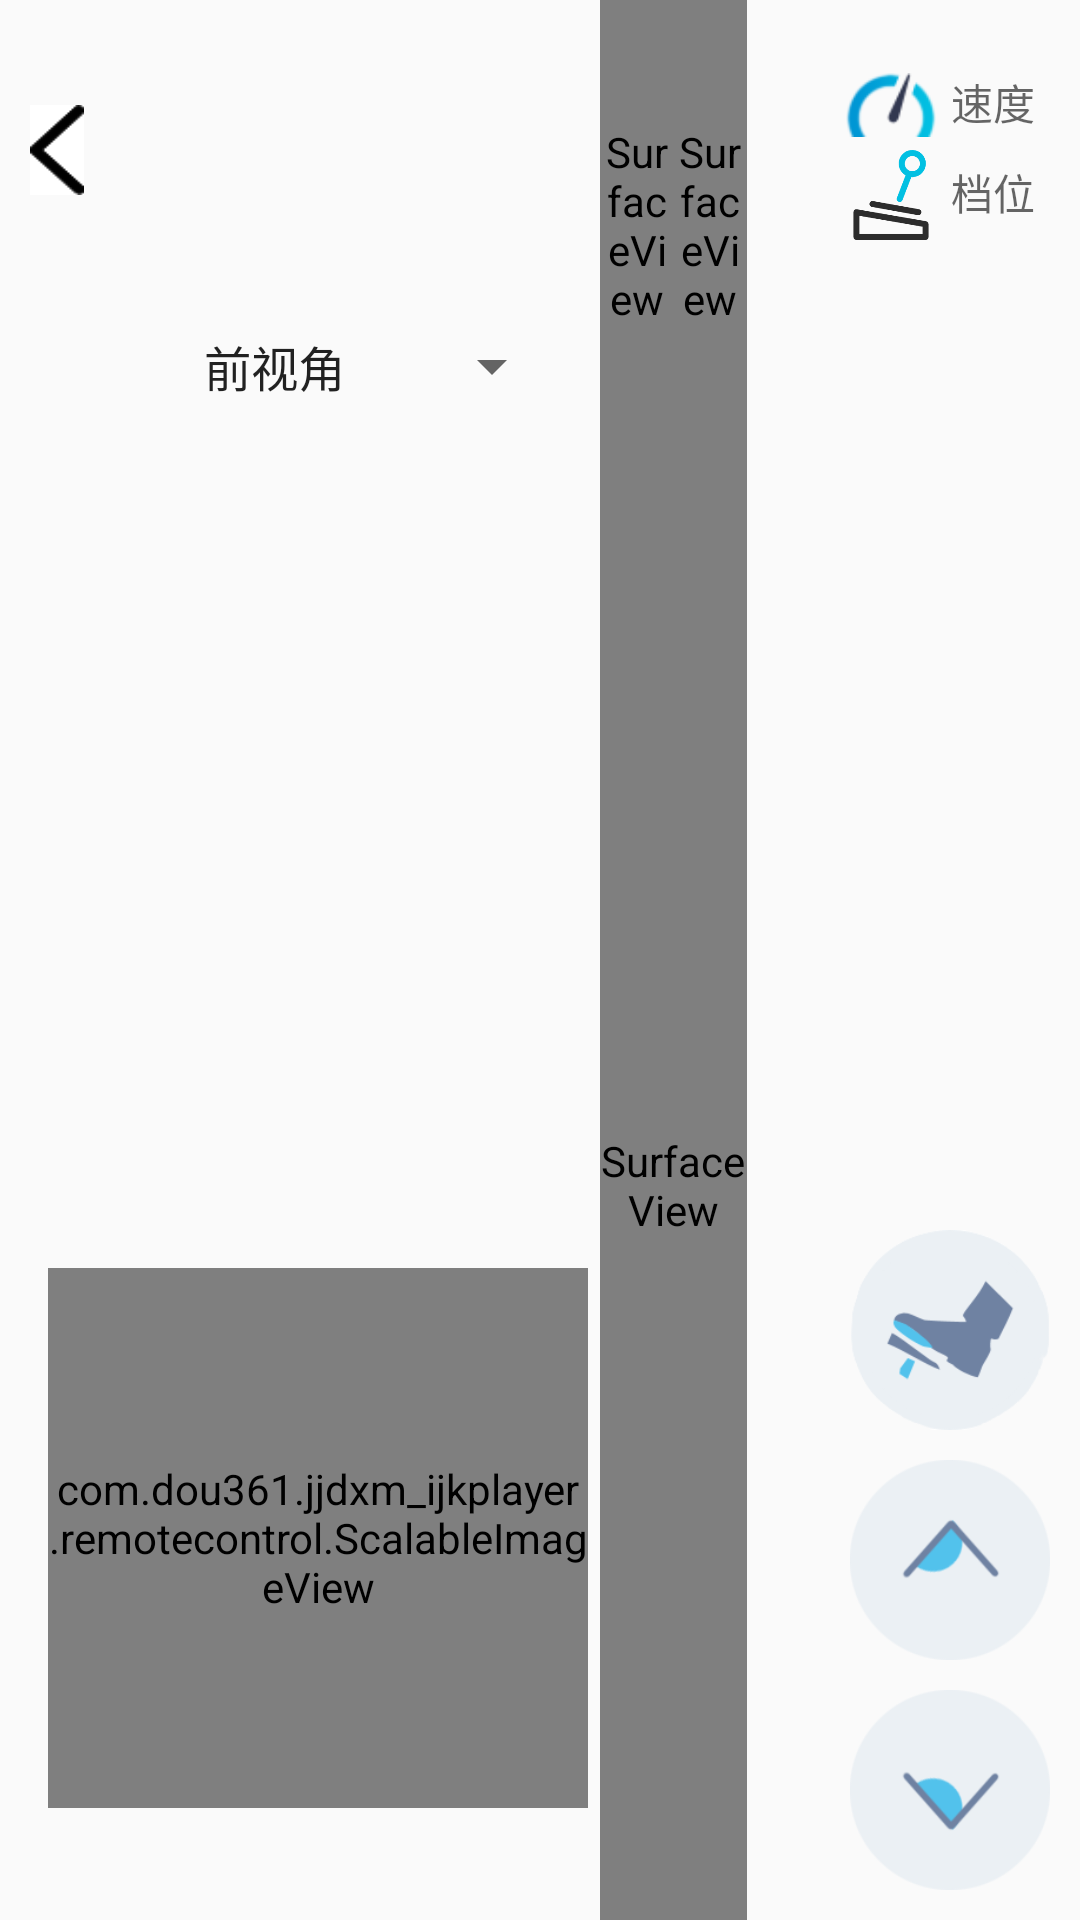

Where to tap for icons on this 1080w x 1920h app screen, as [x,y]:
backward: [950,1790]
brake: [950,1330]
forward: [950,1560]
return bar: [57,150]
